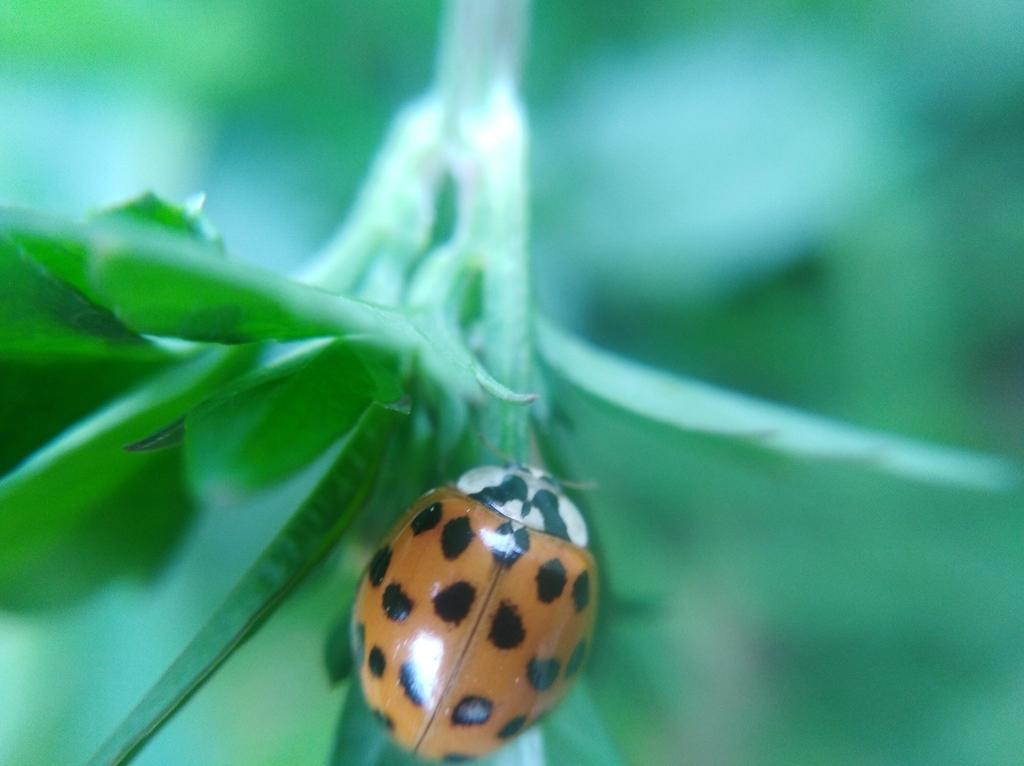ladybug: (341, 453, 611, 766)
